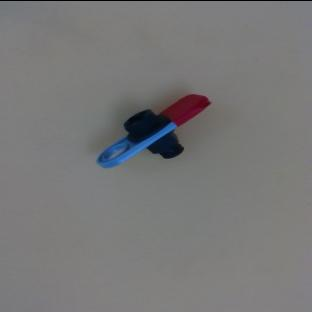part_1_good: (86, 86, 224, 184)
